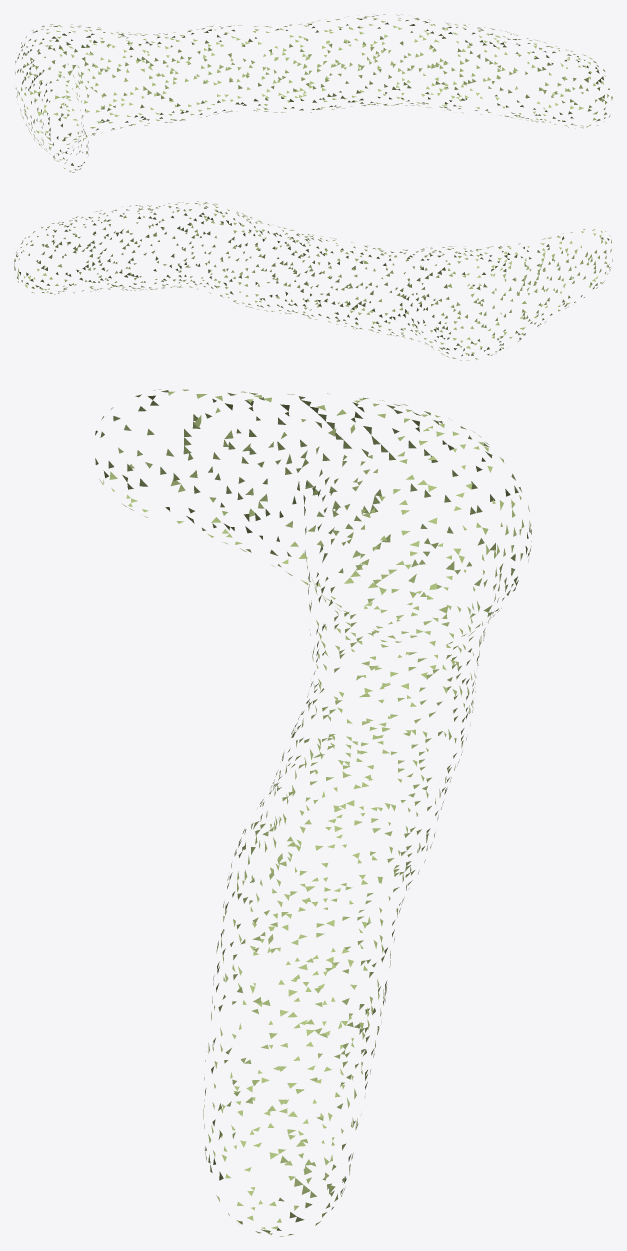
File: morph_011.glb
3 renders of one model, top to bottom at view 1: azimuth 30°, elevation 25°; view 2: azimuth 150°, elevation 25°; view 3: azimuth 270°, elevation 25°, orthographic. The views are drawn at different scales.
Bounding box in the file's own units: 103 × 31.64 × 35.08.
